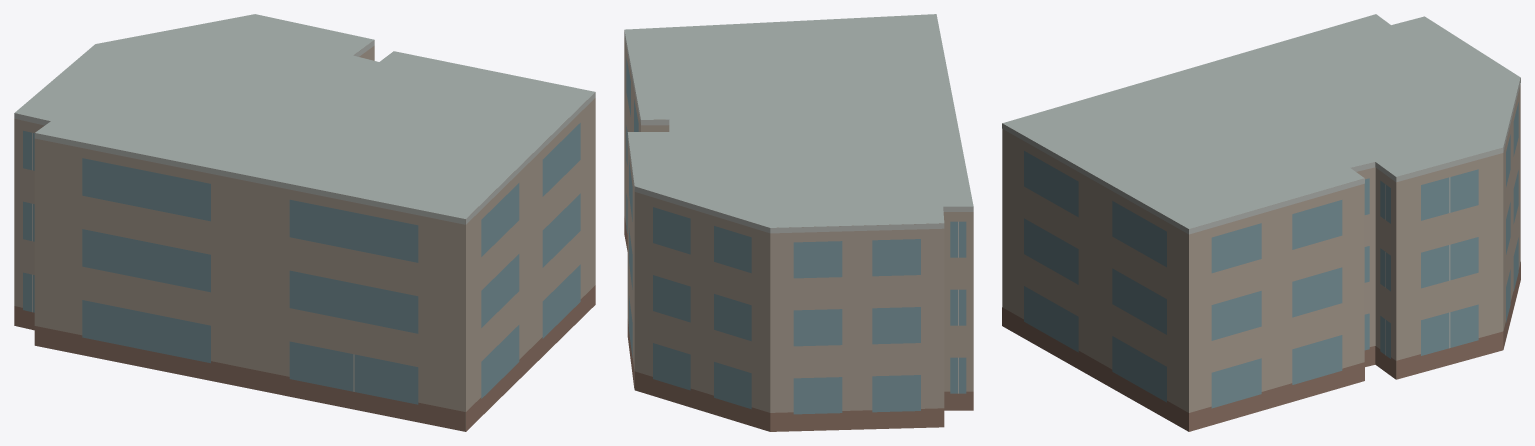
The model's file is survey-upis-32693540.glb.
3 views of the same model, side by side, from view 1: azimuth 30°, elevation 25°; view 2: azimuth 150°, elevation 25°; view 3: azimuth 270°, elevation 25° (orthographic). The views are drawn at different scales.
Visible parts, largest first — view 1: survey-upis-32693540.tmp; view 2: survey-upis-32693540.tmp; view 3: survey-upis-32693540.tmp.
Part boxes in pixels (x1=…): survey-upis-32693540.tmp: x1=14, y1=14, x2=595, y2=431; survey-upis-32693540.tmp: x1=624, y1=14, x2=973, y2=431; survey-upis-32693540.tmp: x1=1002, y1=14, x2=1520, y2=431.
Size of the model in its own units: 20.83 by 9.15 by 21.22.
